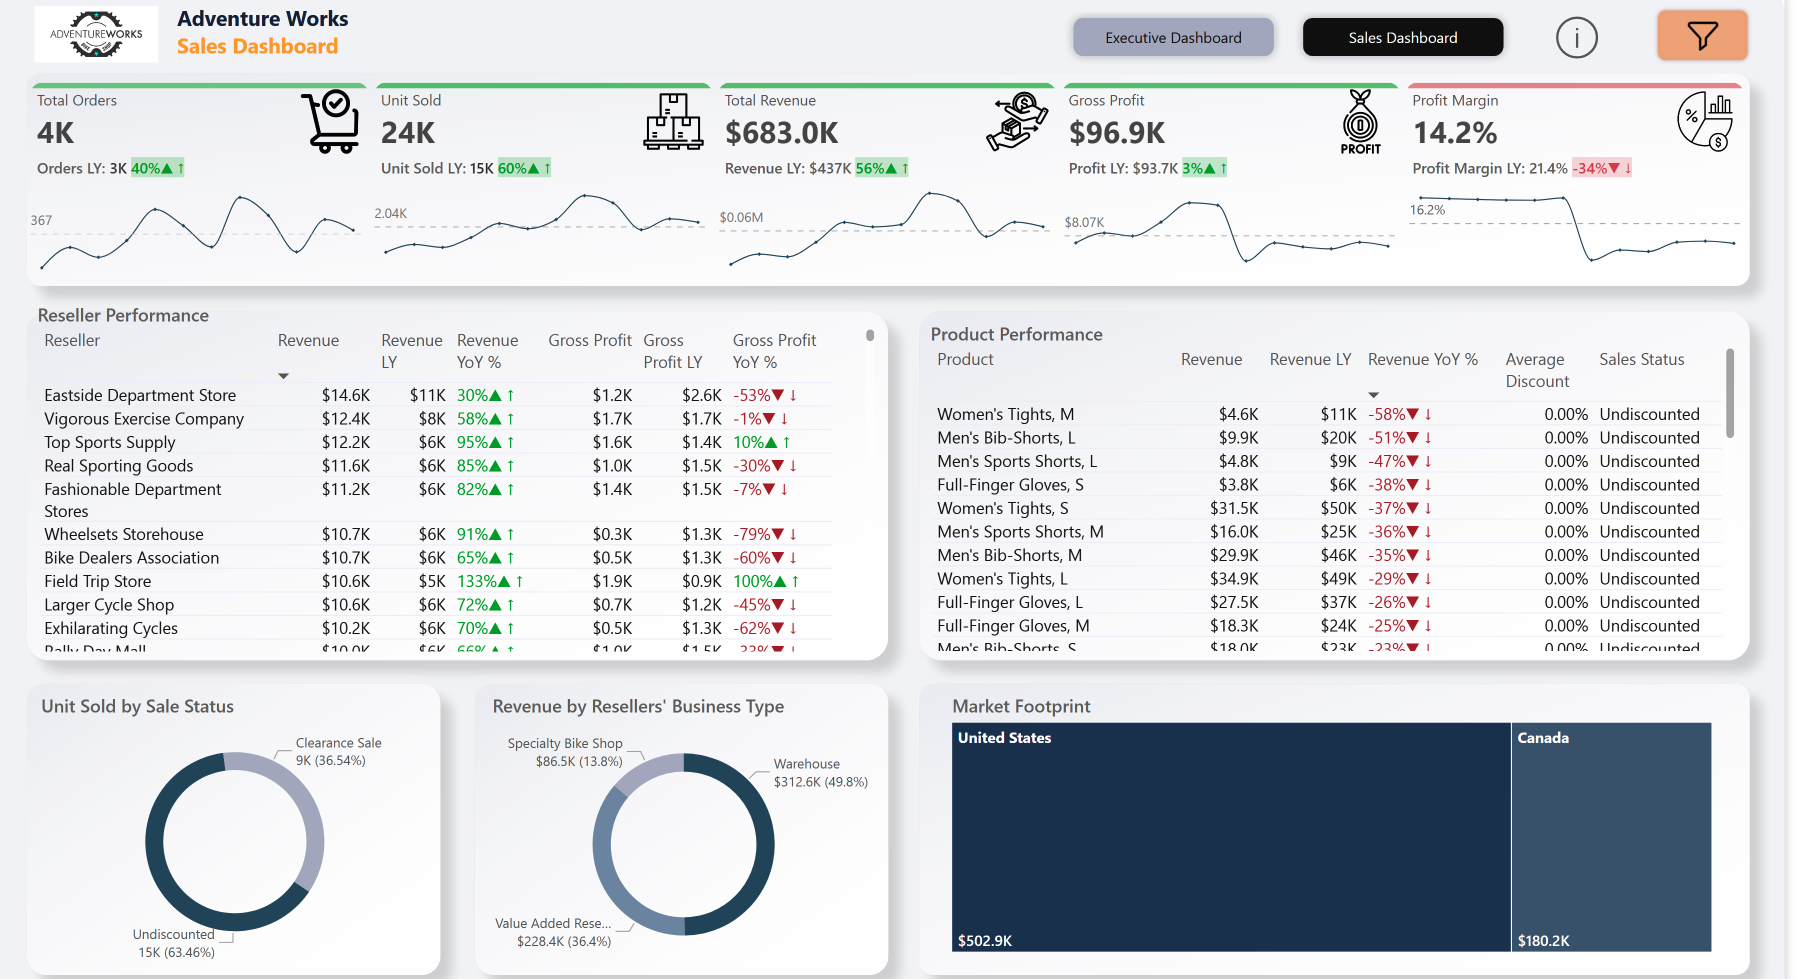

The dashboard page shown, as its layout file describes it:
{"tool":"powerbi","page":{"name":"Sales Dashboard","canvas":[1600,900],"ordinal":1},"visuals":[{"type":"textbox","box":[160,4,330.7,64],"z":0},{"type":"cardVisual","title":"KPI Card","fields":{"Data":["Key Metrics.orders","Key Metrics.unit_sold","Key Metrics.gross_sales","Key Metrics.gross_profit","Key Metrics.profit_margin %"]},"box":[27.1,74.3,1544.2,180.7],"z":0,"group":"g1"},{"type":"pageNavigator","box":[957.3,13.3,400,50.7],"z":1000},{"type":"actionButton","title":"Info Button","box":[1385.3,13.3,60,50.7],"z":1000,"group":"g2"},{"type":"lineChart","title":"MonthlyOrderTrend","fields":{"Category":["dim_date.Date.Variation.Date Hierarchy.Month"],"Y":["Key Metrics.orders"]},"box":[34.4,161,298.3,86.7],"z":1000,"group":"g1"},{"type":"lineChart","fields":{"Y":["Key Metrics.unit_sold"],"Category":["dim_date.Date.Variation.Date Hierarchy.Month"]},"box":[341.7,161.6,299,86],"z":2000,"group":"g1"},{"type":"donutChart","title":"Revenue by Resellers'' Business Type","fields":{"Category":["dim_reseller.business type"],"Y":["Key Metrics.gross_sales"]},"box":[446.7,624,341.3,244],"z":2000},{"type":"lineChart","fields":{"Category":["dim_date.Date.Variation.Date Hierarchy.Month"],"Y":["Key Metrics.gross_sales"]},"box":[649.7,161.6,299,86],"z":3000,"group":"g1"},{"type":"tableEx","title":"  Reseller Performance","fields":{"Values":["dim_reseller.reseller","Key Metrics.gross_sales","Key Metrics.gross_sales_LY","Key Metrics.sales YoY % Chng","Key Metrics.gross_profit","Key Metrics.gross_profit_LY","Key Metrics.profit YoY % Chng"]},"box":[40,274.7,748,312],"z":3000},{"type":"lineChart","fields":{"Category":["dim_date.Date.Variation.Date Hierarchy.Month"],"Y":["Key Metrics.gross_profit"]},"box":[957.7,161.6,299,86],"z":4000,"group":"g1"},{"type":"treemap","title":"Market Footprint","fields":{"Values":["Key Metrics.gross_sales"],"Group":["dim_region.country"]},"box":[852,624,688,236],"z":4000},{"type":"group","id":"g1","title":"KPI Charts","box":[27.1,74.3,1544.2,180.7],"z":5000},{"type":"lineChart","fields":{"Category":["dim_date.Date.Variation.Date Hierarchy.Month"],"Y":["Key Metrics.profit_margin %"]},"box":[1265.7,161,299.7,86.7],"z":5000,"group":"g1"},{"type":"tableEx","title":"Product Performance","fields":{"Values":["dim_product.product","Key Metrics.gross_sales","Key Metrics.gross_sales_LY","Key Metrics.sales YoY % Chng","Key Metrics.discount_pct","Key Metrics.Pricing Group"]},"box":[837.3,292,718.7,294.7],"z":6000},{"type":"donutChart","fields":{"Category":["fact_sales.SaleStatus"],"Y":["Key Metrics.unit_sold"]},"box":[38.7,624,356,244],"z":7000},{"type":"actionButton","title":"Show Button","box":[1482.7,10.7,88,53.3],"z":9000},{"type":"group","id":"g2","title":"Info Group","box":[1157.3,13.3,290.7,180],"z":11000},{"type":"image","box":[37.3,10.7,110.7,50.7],"z":11001}]}

Visuals, with their boxes on the page's 1600x900 design canvas (x1, y1, x2, y2). These are canvas units, not pixel positions in the 1796x979 screenshot, which may show the page scaled, cropped or inside an application window:
textbox: (160, 4, 491, 68)
"KPI Card" cardVisual: (27, 74, 1571, 255)
pageNavigator: (957, 13, 1357, 64)
"Info Button" actionButton: (1385, 13, 1445, 64)
"MonthlyOrderTrend" lineChart: (34, 161, 333, 248)
lineChart - Key Metrics.unit_sold x dim_date.Date.Variation.Date Hierarchy.Month: (342, 162, 641, 248)
"Revenue by Resellers'' Business Type" donutChart: (447, 624, 788, 868)
lineChart - dim_date.Date.Variation.Date Hierarchy.Month x Key Metrics.gross_sales: (650, 162, 949, 248)
"  Reseller Performance" tableEx: (40, 275, 788, 587)
lineChart - dim_date.Date.Variation.Date Hierarchy.Month x Key Metrics.gross_profit: (958, 162, 1257, 248)
"Market Footprint" treemap: (852, 624, 1540, 860)
"KPI Charts" group: (27, 74, 1571, 255)
lineChart - dim_date.Date.Variation.Date Hierarchy.Month x Key Metrics.profit_margin %: (1266, 161, 1565, 248)
"Product Performance" tableEx: (837, 292, 1556, 587)
donutChart - fact_sales.SaleStatus x Key Metrics.unit_sold: (39, 624, 395, 868)
"Show Button" actionButton: (1483, 11, 1571, 64)
"Info Group" group: (1157, 13, 1448, 193)
image: (37, 11, 148, 61)
